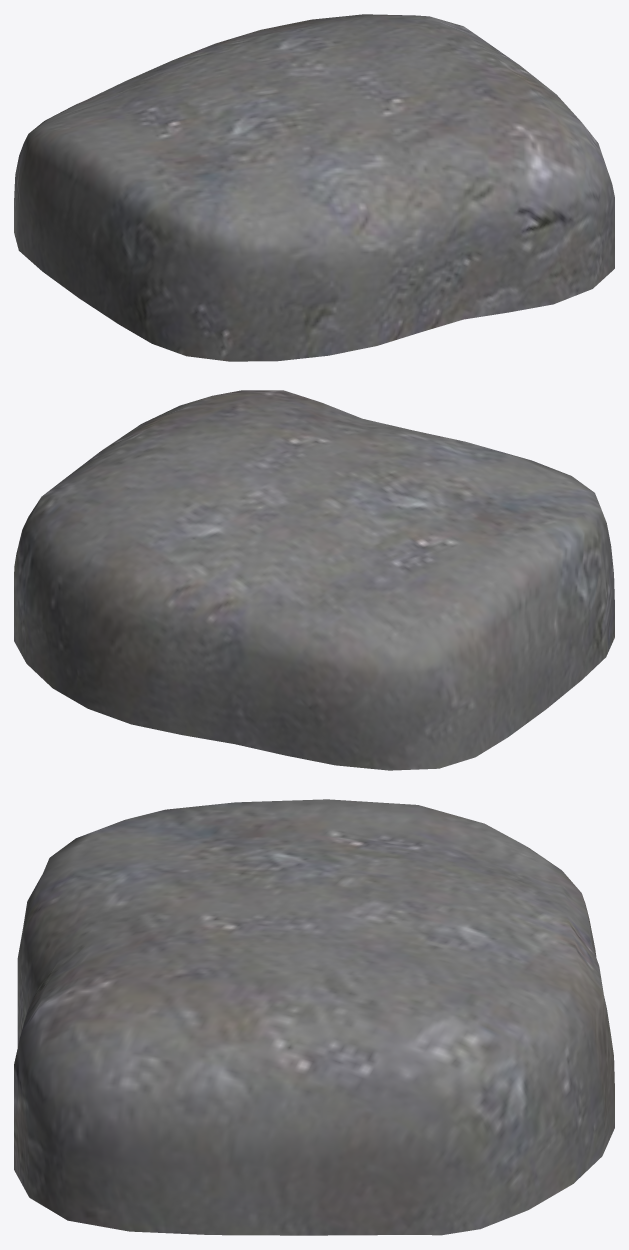
The model's file is SM_Sun_Pal_Stone_O.fbx.
The picture shows the model from 3 angles, top to bottom: view 1: azimuth 30°, elevation 25°; view 2: azimuth 150°, elevation 25°; view 3: azimuth 270°, elevation 25°; orthographic projection. The views are drawn at different scales.
Parts seen in each view (by area): view 1: SM_Sun_Pal_Stone_O; view 2: SM_Sun_Pal_Stone_O; view 3: SM_Sun_Pal_Stone_O.
Part boxes in pixels (<box>): SM_Sun_Pal_Stone_O: <box>14,14,614,361</box>; SM_Sun_Pal_Stone_O: <box>14,390,614,770</box>; SM_Sun_Pal_Stone_O: <box>14,799,614,1235</box>.
Size of the model in its own units: 81.91 by 27.46 by 74.09.
